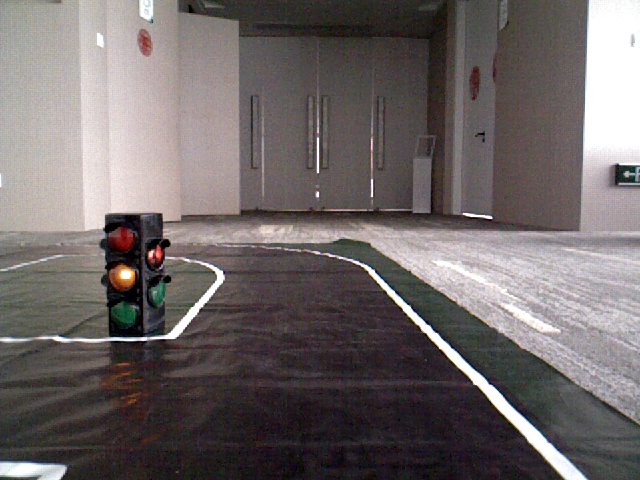yellow: (104, 217, 148, 330)
